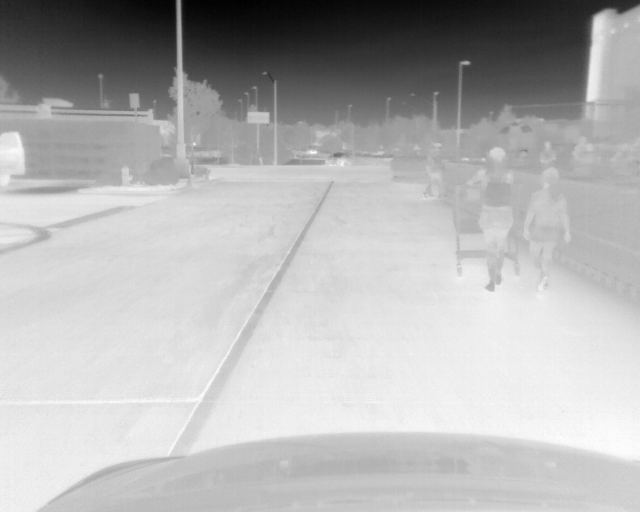car: (1, 131, 24, 185), (324, 153, 351, 167), (297, 145, 318, 157)
people: (464, 145, 518, 292), (525, 167, 572, 287), (422, 144, 445, 197), (573, 136, 602, 168), (538, 141, 557, 169)
